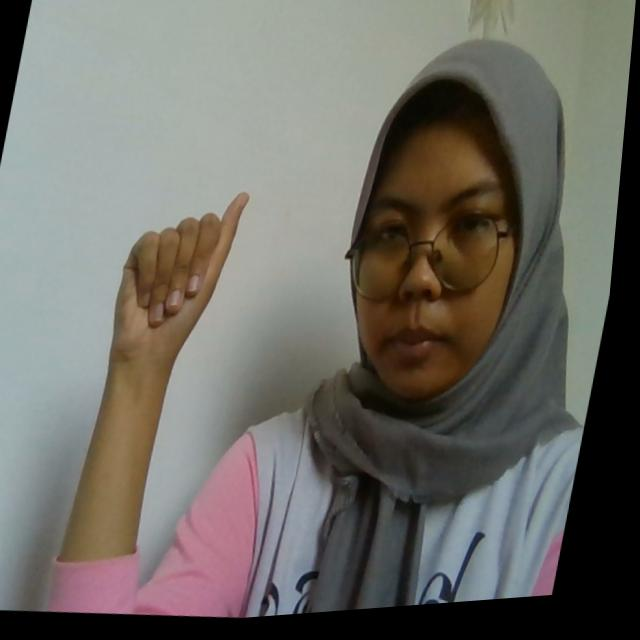A: (112, 181, 257, 368)
